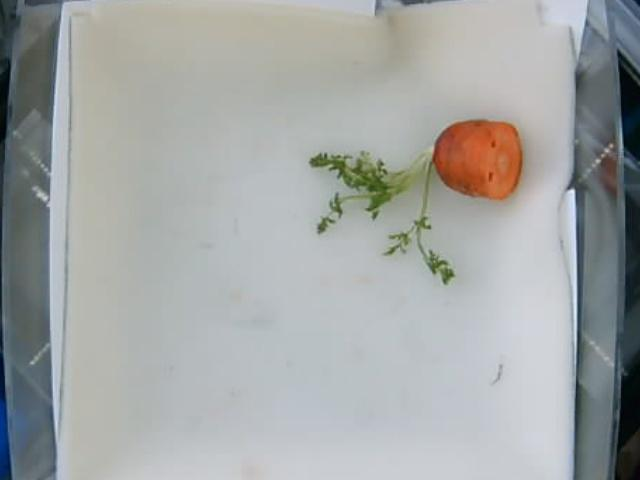Carrot: (305, 120, 522, 286)
